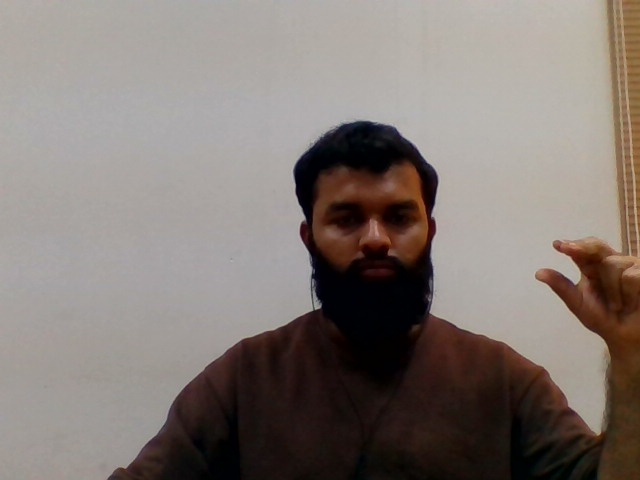No: (521, 231, 640, 350)
